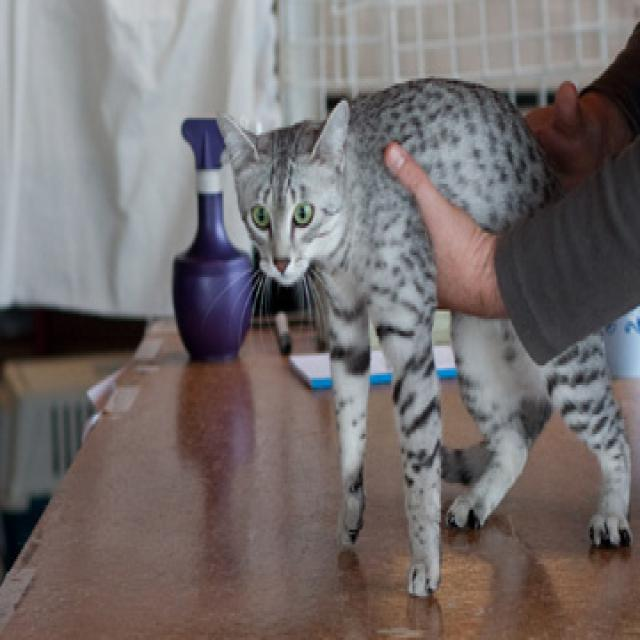Egyptian Mau: (218, 73, 638, 599)
